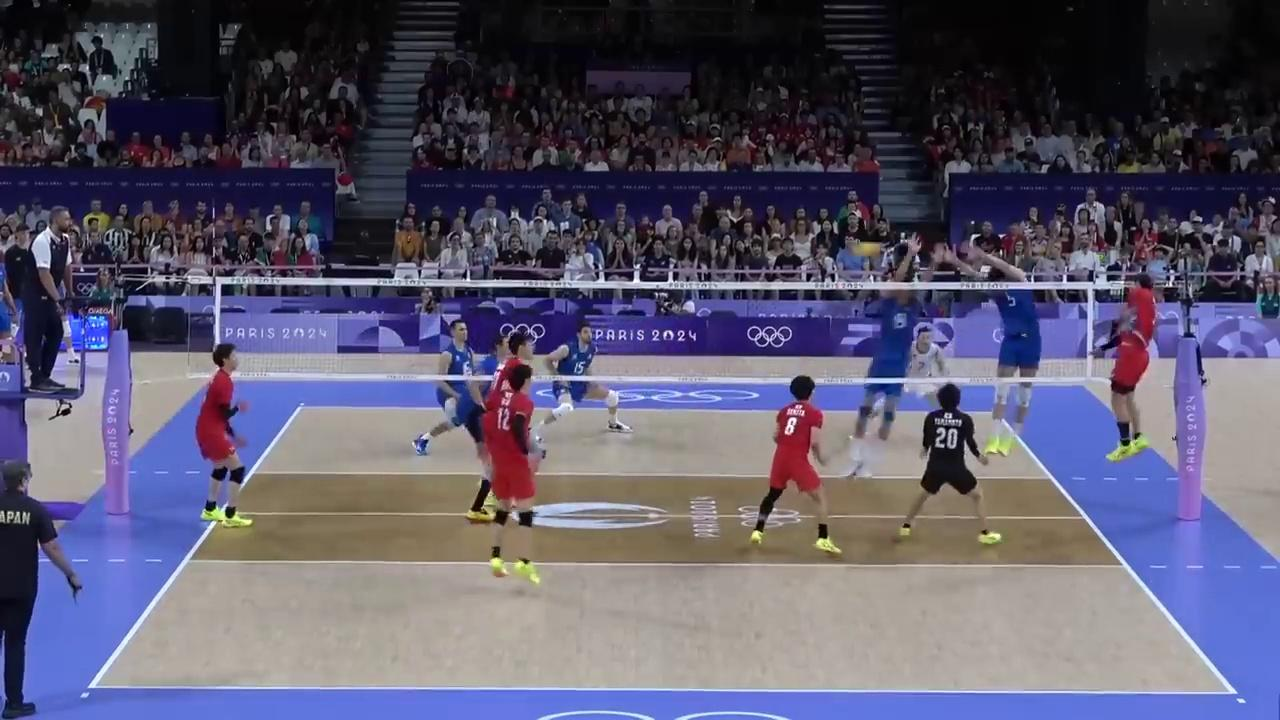ball: (852, 241, 880, 254)
